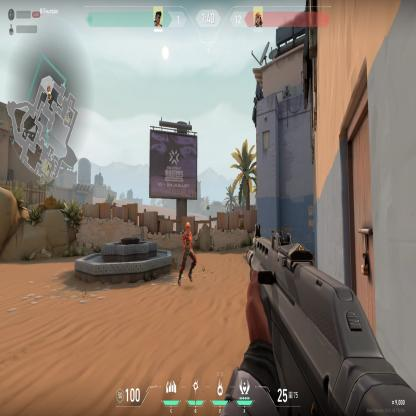enemy: (177, 221, 197, 288)
